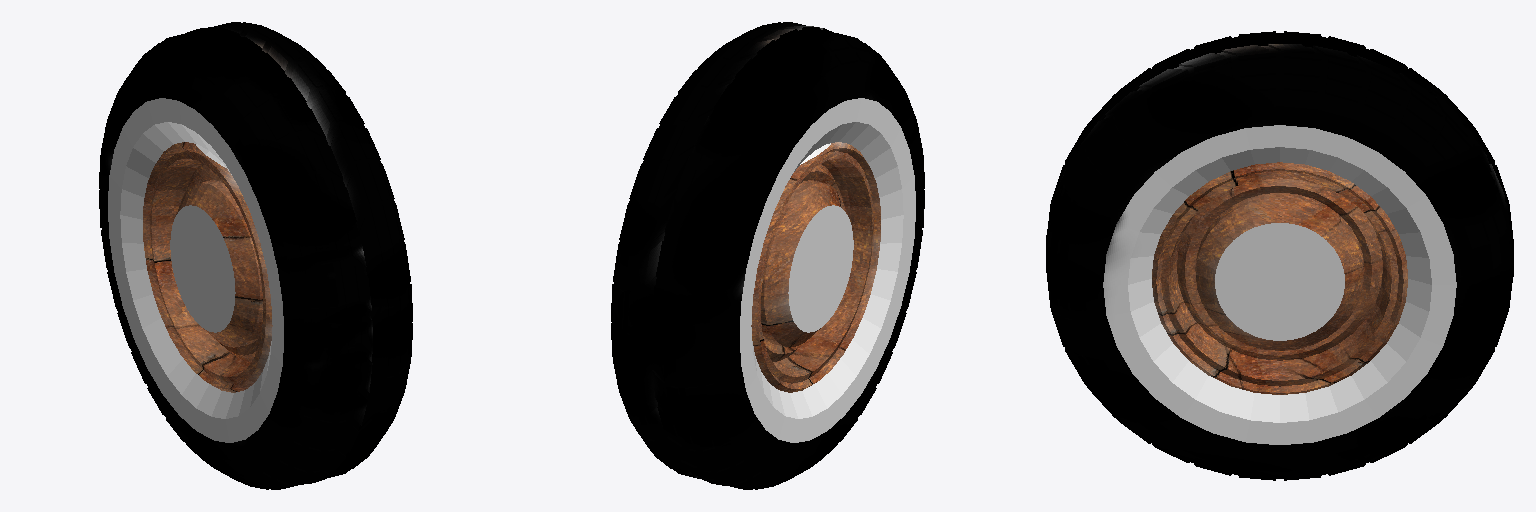
3 views of the same model, side by side, from view 1: azimuth 30°, elevation 25°; view 2: azimuth 150°, elevation 25°; view 3: azimuth 270°, elevation 25° (orthographic).
Parts seen in each view (by area): view 1: tyre.003_Cylinder.003; view 2: tyre.003_Cylinder.003; view 3: tyre.003_Cylinder.003.
Part boxes in pixels (x1,y1,x2,y2): tyre.003_Cylinder.003: (99,22,412,489); tyre.003_Cylinder.003: (611,22,924,489); tyre.003_Cylinder.003: (1046,31,1513,480).
Bounding box in the file's own units: 0.6582 × 2.23 × 2.23.
1 materials, 1 textured.